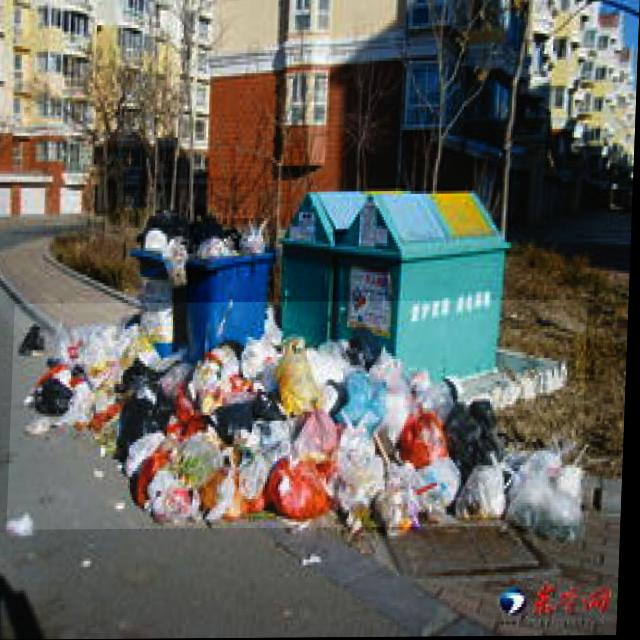garbage: (11, 301, 590, 530)
overflow: (187, 218, 279, 361), (125, 205, 192, 352)
